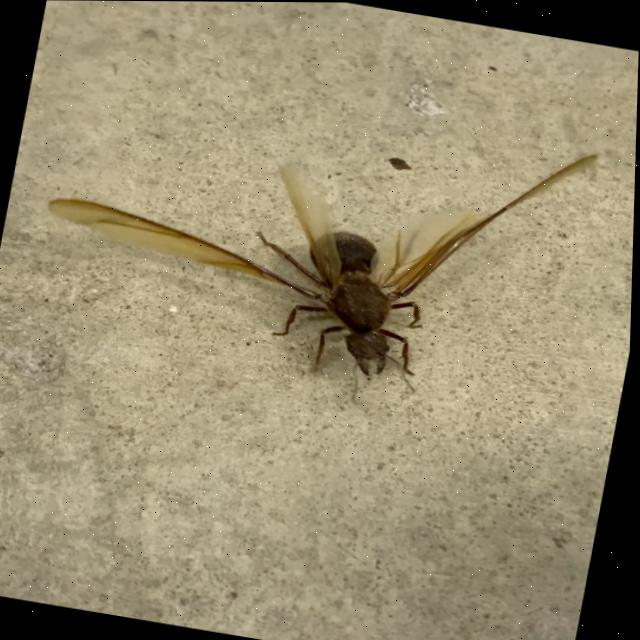Alive-Female-Alate: (19, 67, 601, 436)
